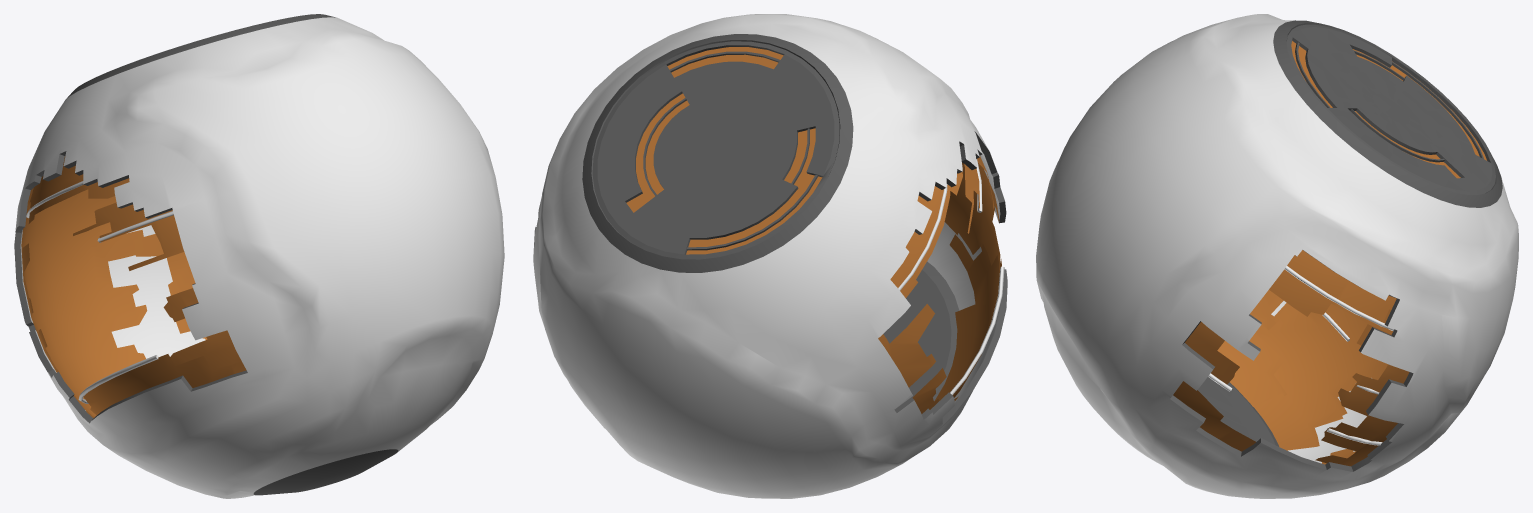
File: VexArchitecture_43.fbx
3 views of the same model, side by side, from view 1: azimuth 30°, elevation 25°; view 2: azimuth 150°, elevation 25°; view 3: azimuth 270°, elevation 25° (orthographic). The views are drawn at different scales.
Parts seen in each view (by area): view 1: Mesh_0190.rip, Mesh_0201.rip, Mesh_0176.rip, Mesh_0207.rip, Mesh_0179.rip, Mesh_0214.rip, Mesh_0172.rip; view 2: Mesh_0190.rip, Mesh_0172.rip, Mesh_0201.rip, Mesh_0176.rip, Mesh_0214.rip, Mesh_0207.rip, Mesh_0179.rip; view 3: Mesh_0190.rip, Mesh_0201.rip, Mesh_0176.rip, Mesh_0172.rip, Mesh_0179.rip, Mesh_0214.rip.
Part boxes in pixels (x1,y1,x2,y2): Mesh_0190.rip: [63, 29, 504, 498]; Mesh_0201.rip: [15, 17, 473, 495]; Mesh_0176.rip: [21, 156, 246, 418]; Mesh_0207.rip: [29, 86, 205, 358]; Mesh_0179.rip: [14, 14, 335, 423]; Mesh_0214.rip: [18, 74, 173, 410]; Mesh_0172.rip: [253, 449, 398, 495]; Mesh_0190.rip: [539, 14, 972, 498]; Mesh_0172.rip: [592, 41, 959, 400]; Mesh_0201.rip: [533, 23, 988, 450]; Mesh_0176.rip: [626, 47, 1001, 413]; Mesh_0214.rip: [722, 127, 1004, 402]; Mesh_0207.rip: [764, 165, 911, 323]; Mesh_0179.rip: [534, 34, 1007, 425]; Mesh_0190.rip: [1036, 14, 1518, 498]; Mesh_0201.rip: [1042, 19, 1510, 482]; Mesh_0176.rip: [1173, 41, 1486, 466]; Mesh_0172.rip: [1198, 24, 1495, 446]; Mesh_0179.rip: [1170, 20, 1502, 471]; Mesh_0214.rip: [1208, 266, 1394, 463].
Bounding box in the file's own units: 188 × 198 × 199.
